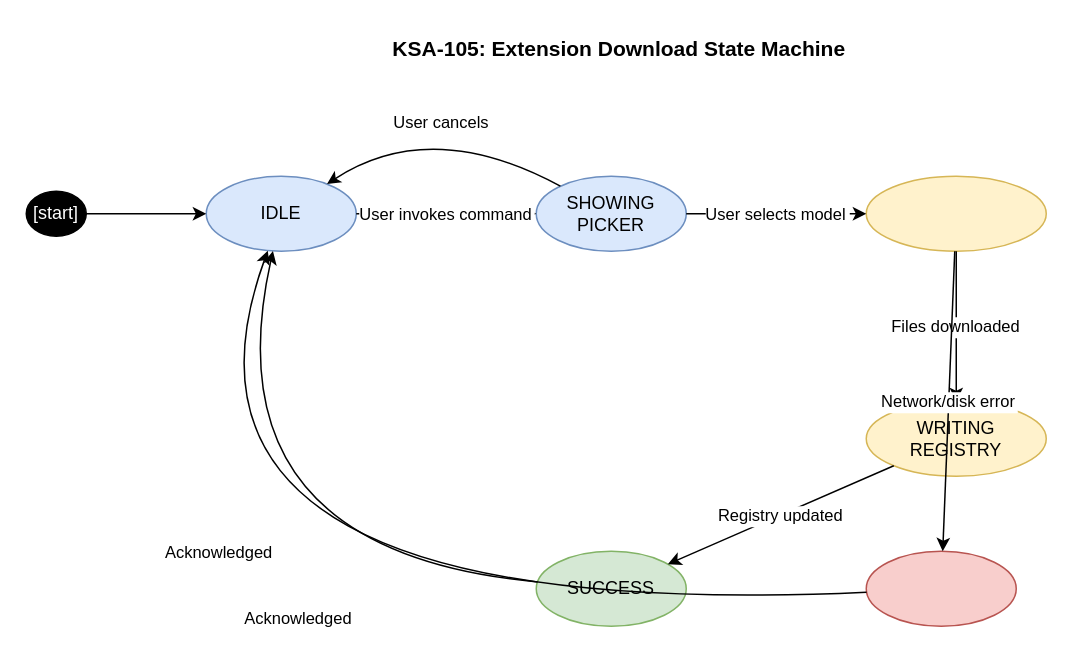
Image size: 1073x654. Some labels were removed from this diagram. Here are the shapes that lost their labels. From the top down, the box of each, then its label:
(865, 175, 1046, 251): DOWNLOADING
(865, 550, 1016, 626): ERROR
